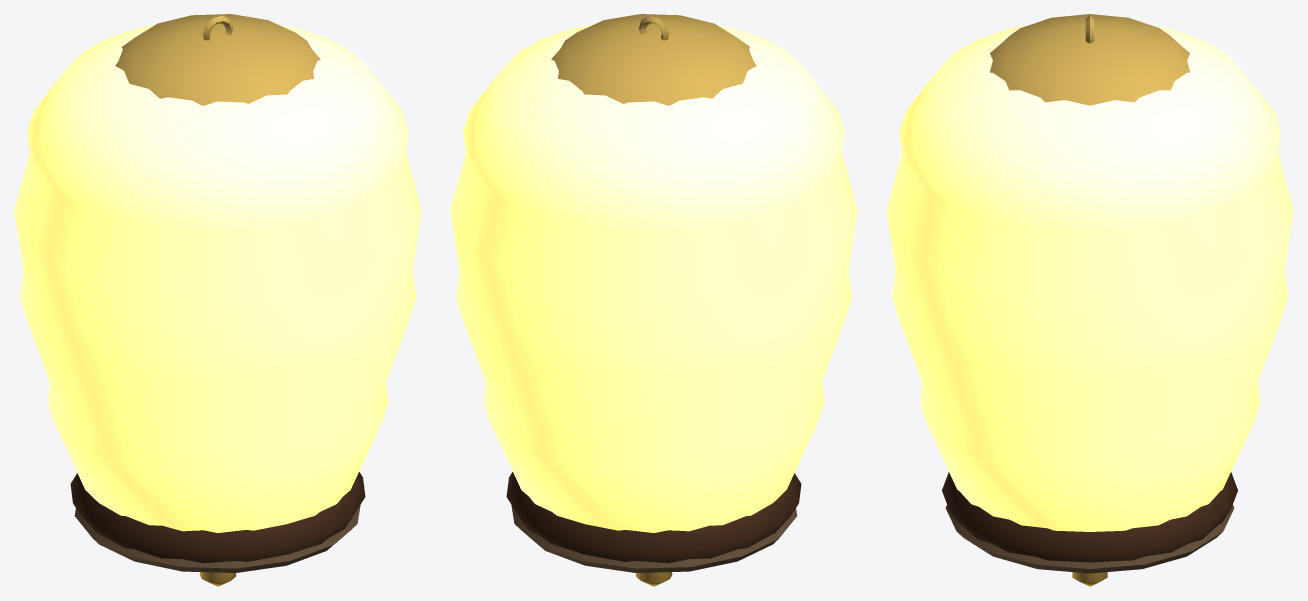
Rendered from prop_sky_lantern.glb.
The picture shows the model from 3 angles, left to right: view 1: azimuth 30°, elevation 25°; view 2: azimuth 150°, elevation 25°; view 3: azimuth 270°, elevation 25°; orthographic projection.
Parts seen in each view (by area): view 1: prop_sky_lantern; view 2: prop_sky_lantern; view 3: prop_sky_lantern.
Part boxes in pixels (box(x1,y1,x2,y2)): prop_sky_lantern: box(14, 14, 421, 586); prop_sky_lantern: box(450, 14, 857, 586); prop_sky_lantern: box(886, 14, 1293, 586).
Size of the model in its own units: 0.44 by 0.6791 by 0.44.
